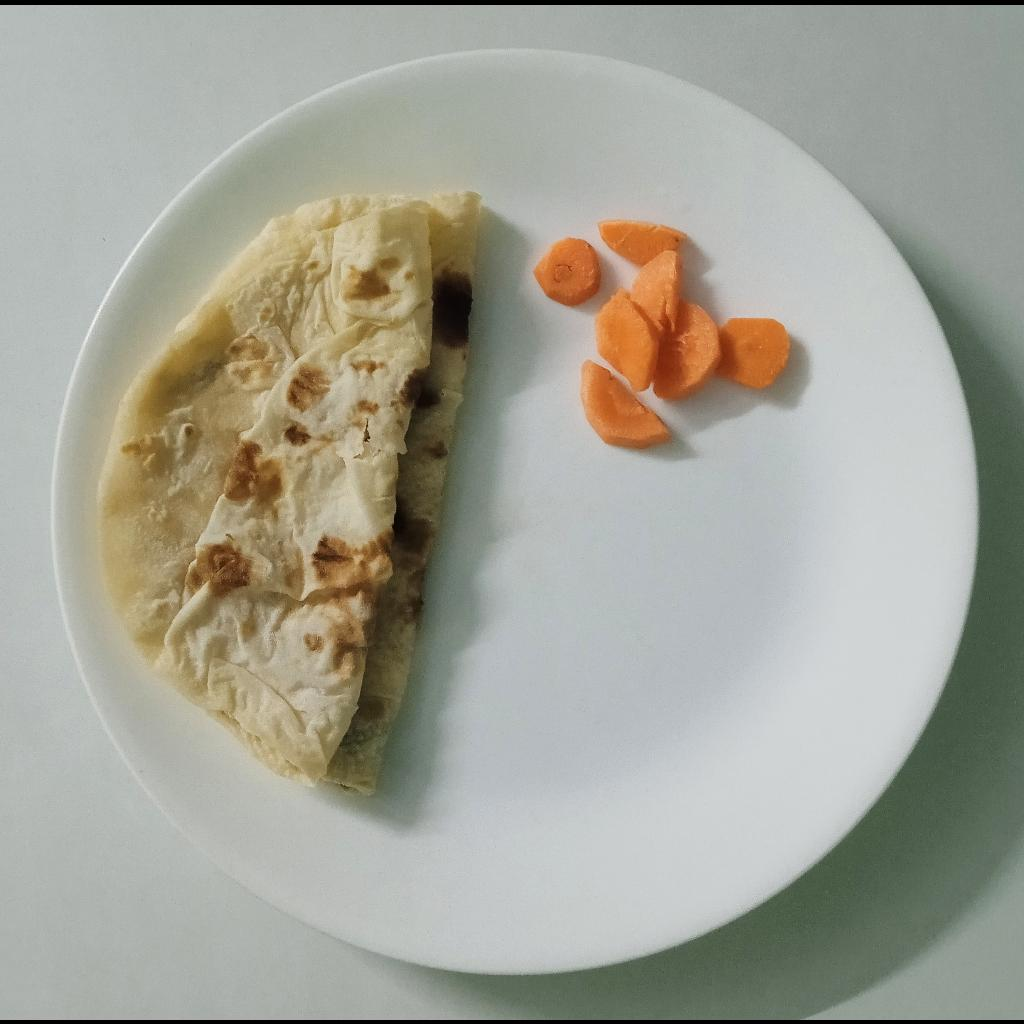carrot: (579, 218, 792, 449), (527, 239, 604, 301)
ruti: (89, 184, 481, 796)
